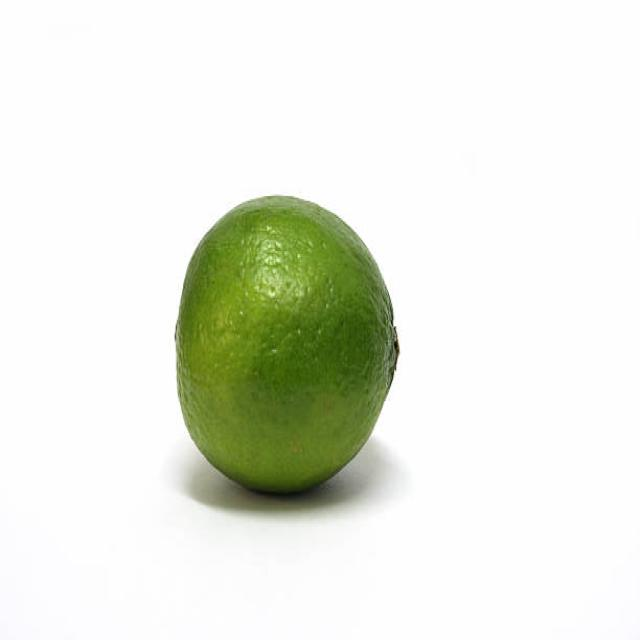Unripe: (173, 192, 400, 495)
